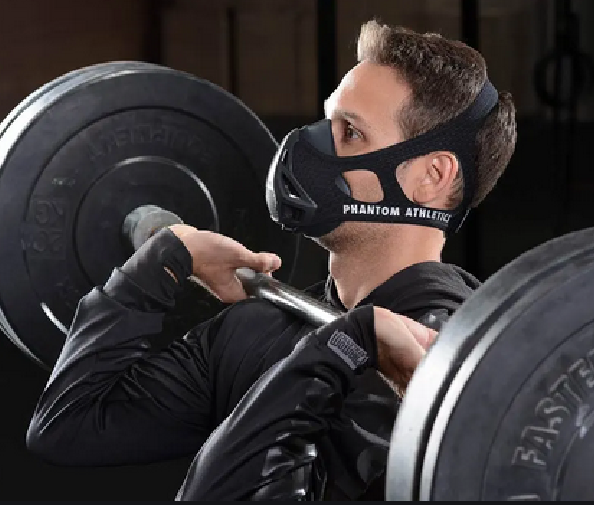with_mask: (262, 49, 462, 253)
